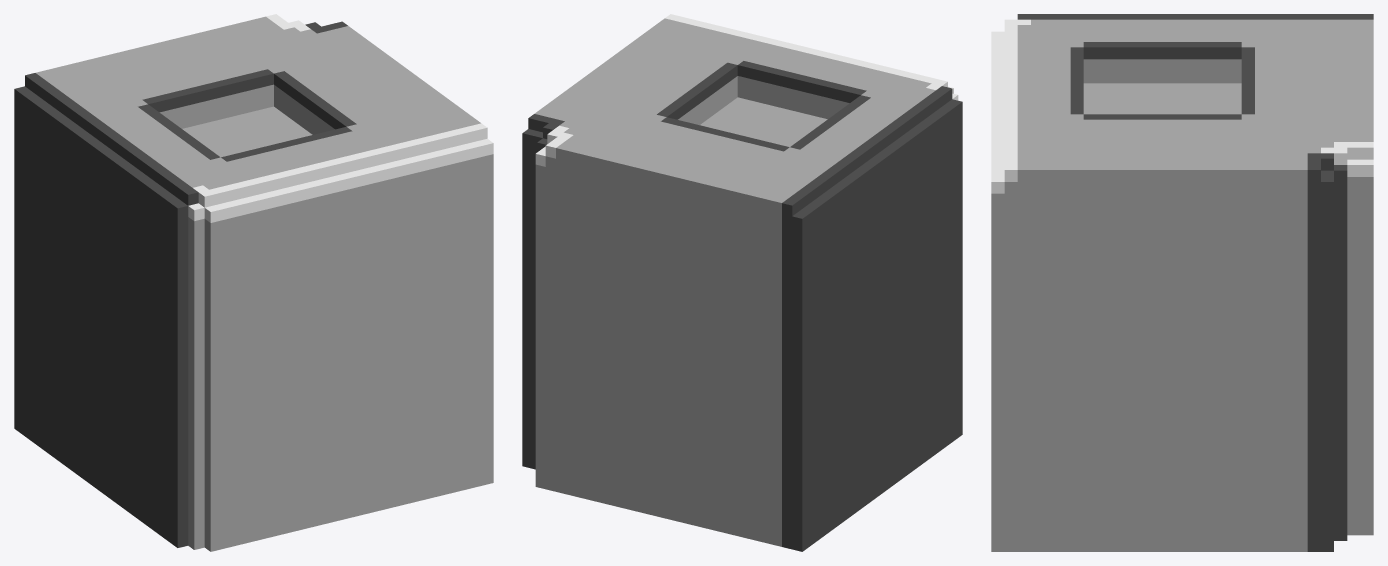
File: CornerSW.obj
The picture shows the model from 3 angles, left to right: view 1: azimuth 30°, elevation 25°; view 2: azimuth 150°, elevation 25°; view 3: azimuth 270°, elevation 25°; orthographic projection. The views are drawn at different scales.
Size of the model in its own units: 29 by 32 by 29.
1 material, 1 textured.
